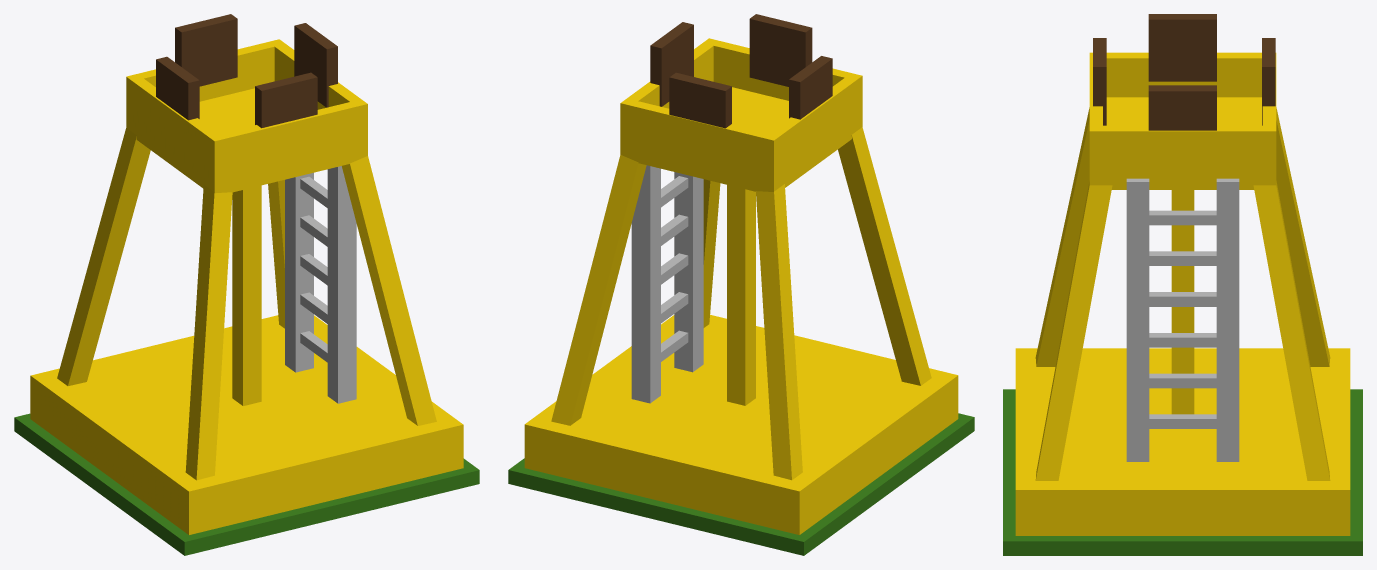
The model's file is lvl25.glb.
The picture shows the model from 3 angles, left to right: view 1: azimuth 30°, elevation 25°; view 2: azimuth 150°, elevation 25°; view 3: azimuth 270°, elevation 25°; orthographic projection. The views are drawn at different scales.
Visible parts, largest first — view 1: Plane.024; view 2: Plane.024; view 3: Plane.024.
Part boxes in pixels (x1,y1,x2,y2): Plane.024: [14, 14, 479, 555]; Plane.024: [508, 14, 974, 555]; Plane.024: [1003, 14, 1362, 555].
Bounding box in the file's own units: 4 × 5.24 × 4.
